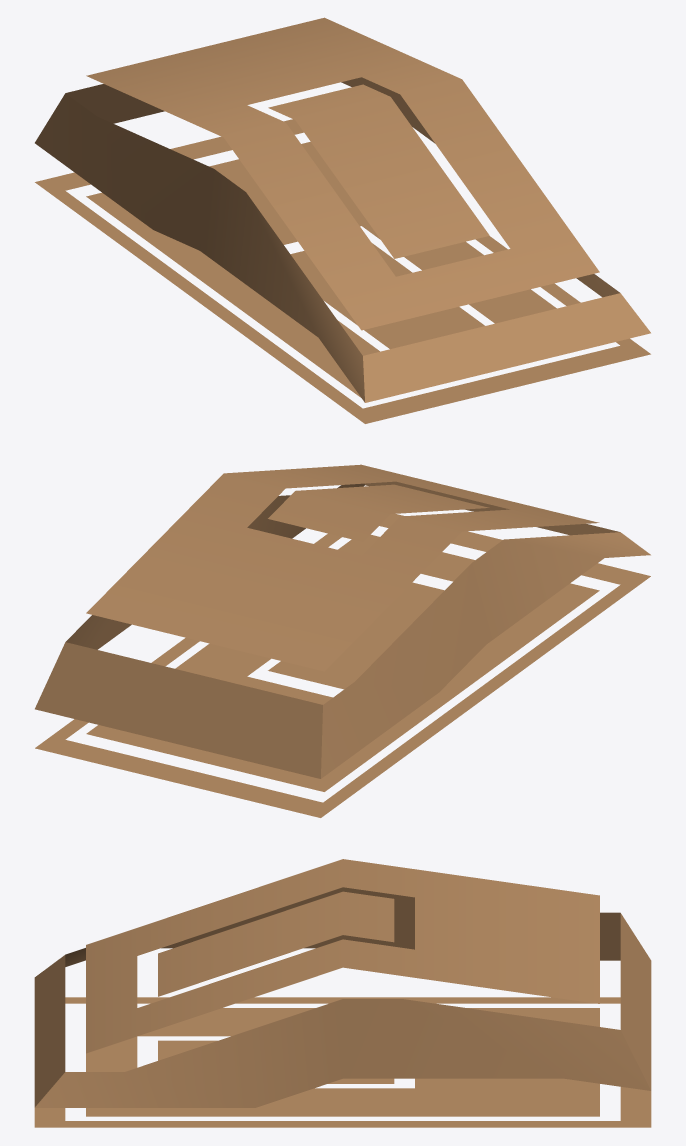
Rendered from C_GH_Feet_M1.FBX.
3 views of the same model, one above another, from view 1: azimuth 30°, elevation 25°; view 2: azimuth 150°, elevation 25°; view 3: azimuth 270°, elevation 25° (orthographic). The views are drawn at different scales.
Visible parts, largest first — view 1: RightFoot; view 2: RightFoot; view 3: RightFoot.
Part boxes in pixels (bbox=[...]): RightFoot: bbox=[35, 17, 650, 423]; RightFoot: bbox=[35, 464, 650, 817]; RightFoot: bbox=[34, 859, 651, 1127].
Bounding box in the file's own units: 10 × 5 × 20.
1 material, 1 textured.
